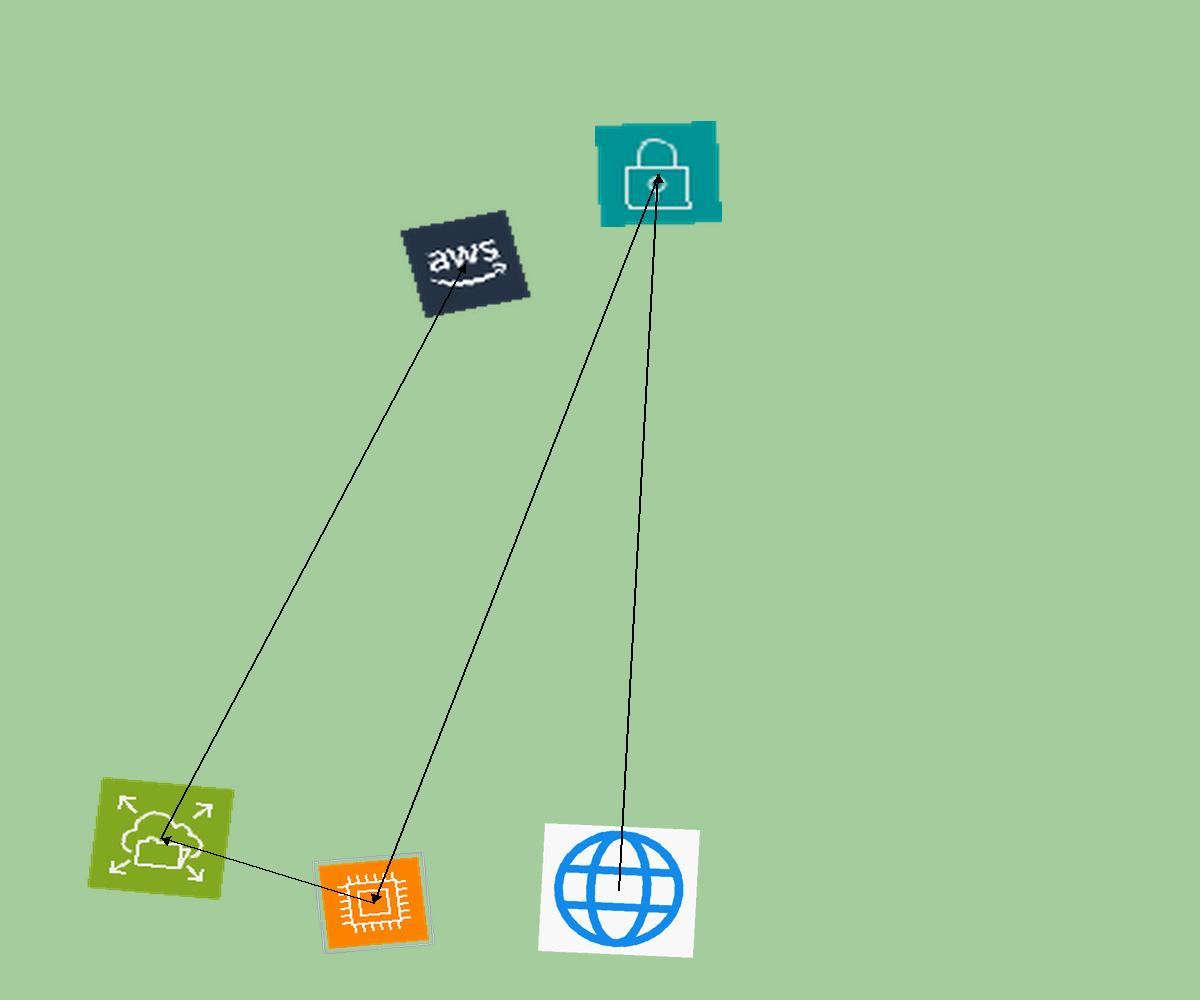AWS-Category_Compute: (311, 851, 436, 955)
AWS-Cloud-logo: (398, 208, 533, 320)
AWS-EFS: (86, 776, 236, 901)
AWS-Private-subnet: (595, 121, 722, 227)
Azure_http: (538, 823, 700, 958)
